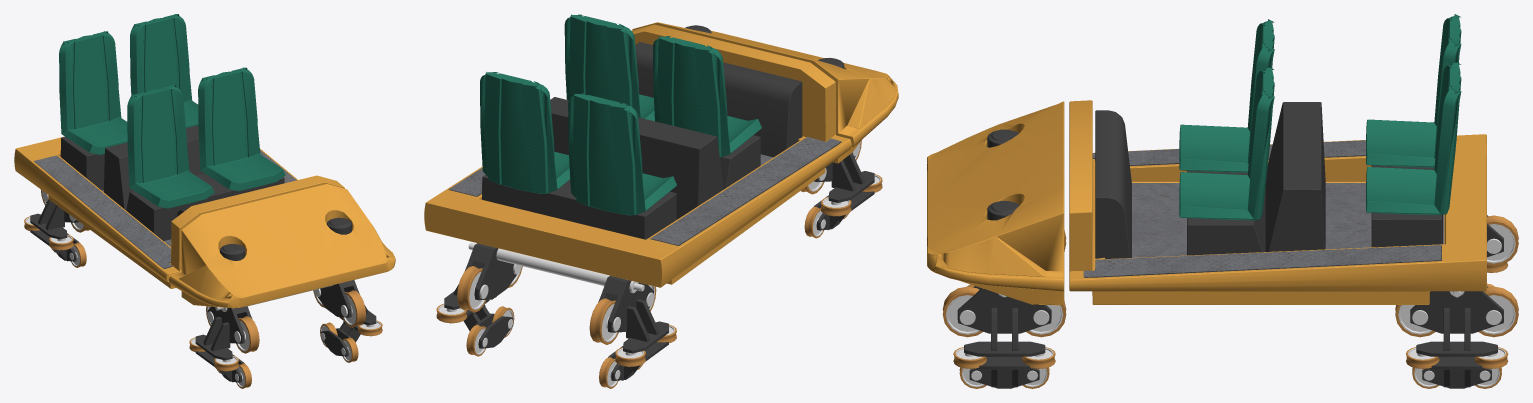
The model's file is IntaminGigaTrain.fbx.
3 renders of one model, left to right at view 1: azimuth 30°, elevation 25°; view 2: azimuth 150°, elevation 25°; view 3: azimuth 270°, elevation 25°, orthographic. The views are drawn at different scales.
Parts seen in each view (by area): view 1: car_front, car_mid, seatfl, seatfr, seatrr, seatrl, BogieFront, Wheels, BogieMid, Wheels.001; view 2: car_mid, seatrr, seatrl, BogieMid, seatfr, seatfl, car_front, Wheels.001, BogieFront, Wheels; view 3: car_mid, car_front, seatfl, seatrl, BogieMid, BogieFront, Wheels.001, seatfr, seatrr, Wheels.
Boxes of the visible parts, box(x1,y1,x2,y2) form: car_front: box(169, 184, 395, 308); car_mid: box(14, 104, 344, 288); seatfl: box(198, 67, 285, 191); seatfr: box(127, 85, 214, 208); seatrr: box(59, 31, 127, 154); seatrl: box(130, 14, 198, 127); BogieFront: box(195, 280, 376, 382); Wheels: box(189, 289, 382, 388); BogieMid: box(30, 191, 79, 261); Wheels.001: box(24, 189, 89, 267); car_mid: box(424, 24, 851, 287); seatrr: box(568, 93, 676, 215); seatrl: box(480, 72, 570, 193); BogieMid: box(444, 243, 668, 380); seatfr: box(653, 36, 761, 157); seatfl: box(564, 14, 654, 121); car_front: box(632, 22, 898, 163); Wheels.001: box(436, 264, 676, 388); BogieFront: box(814, 143, 874, 230); Wheels: box(801, 140, 882, 238); car_mid: box(1069, 100, 1486, 304); car_front: box(927, 101, 1064, 305); seatfl: box(1179, 66, 1274, 220); seatrl: box(1366, 61, 1461, 214); BogieMid: box(1410, 215, 1503, 388); BogieFront: box(957, 286, 1051, 388); Wheels.001: box(1395, 215, 1518, 388); seatfr: box(1179, 19, 1274, 172); seatrr: box(1366, 14, 1461, 167); Wheels: box(942, 230, 1066, 388).
Size of the model in its own units: 1.63 by 3.17 by 1.77.
Materials: 6 (1 with a texture image).
